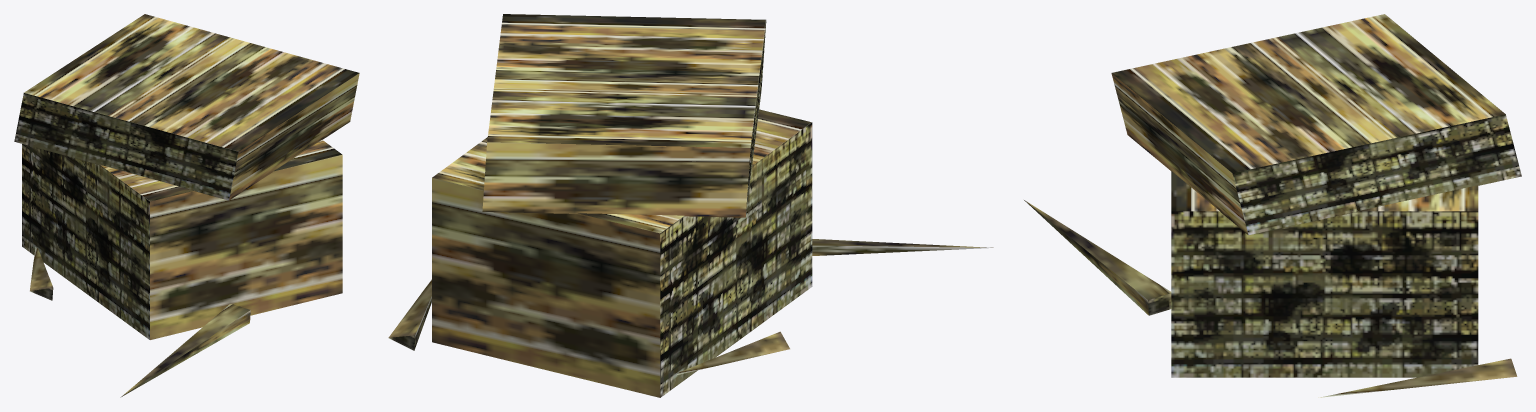
Rendered from Environment - Prop - Rail Tie - Damaged - PMRailTie_d.glb.
3 views of the same model, side by side, from view 1: azimuth 30°, elevation 25°; view 2: azimuth 150°, elevation 25°; view 3: azimuth 270°, elevation 25° (orthographic). The views are drawn at different scales.
Parts seen in each view (by area): view 1: PMRAILTIE_D; view 2: PMRAILTIE_D; view 3: PMRAILTIE_D.
Boxes of the visible parts, <box> form: PMRAILTIE_D: <box>14,14,359,397</box>; PMRAILTIE_D: <box>388,14,993,397</box>; PMRAILTIE_D: <box>1024,14,1521,397</box>.
Bounding box in the file's own units: 23.76 × 12.85 × 25.34.
Materials: 1 (1 with a texture image).
